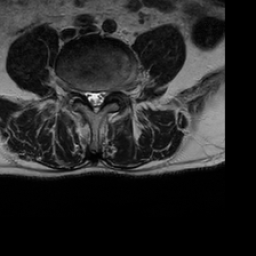CCS_normal: (91, 85, 100, 115)
LFS_severe_stenosis: (108, 82, 115, 100)
LLS_normal: (100, 85, 107, 107)
RFS_severe_stenosis: (75, 84, 84, 102)
RLS_stenosis: (84, 85, 92, 107)
